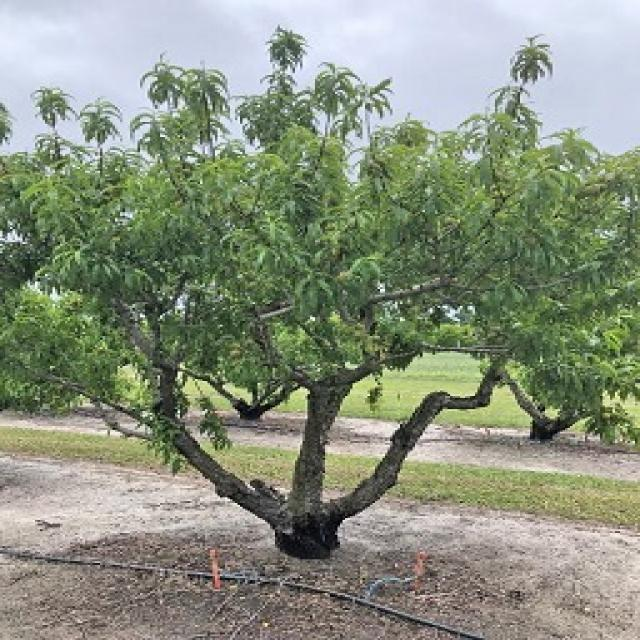Peach: (8, 30, 607, 431)
